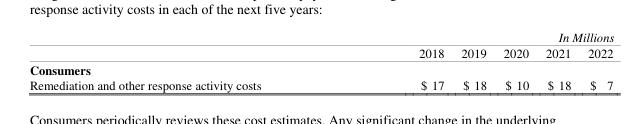table: (28, 29, 613, 92)
table column: (28, 29, 339, 92), (339, 29, 451, 92), (451, 29, 494, 92), (494, 29, 536, 92), (536, 29, 578, 92), (578, 29, 613, 92)
table column header: (28, 29, 613, 60)
table projected row header: (28, 60, 613, 76)
table row: (28, 44, 613, 60), (28, 60, 613, 76), (28, 76, 613, 92), (28, 29, 613, 44)
table spanning cell: (339, 29, 451, 60), (451, 29, 494, 60), (494, 29, 536, 60), (536, 29, 613, 44)
